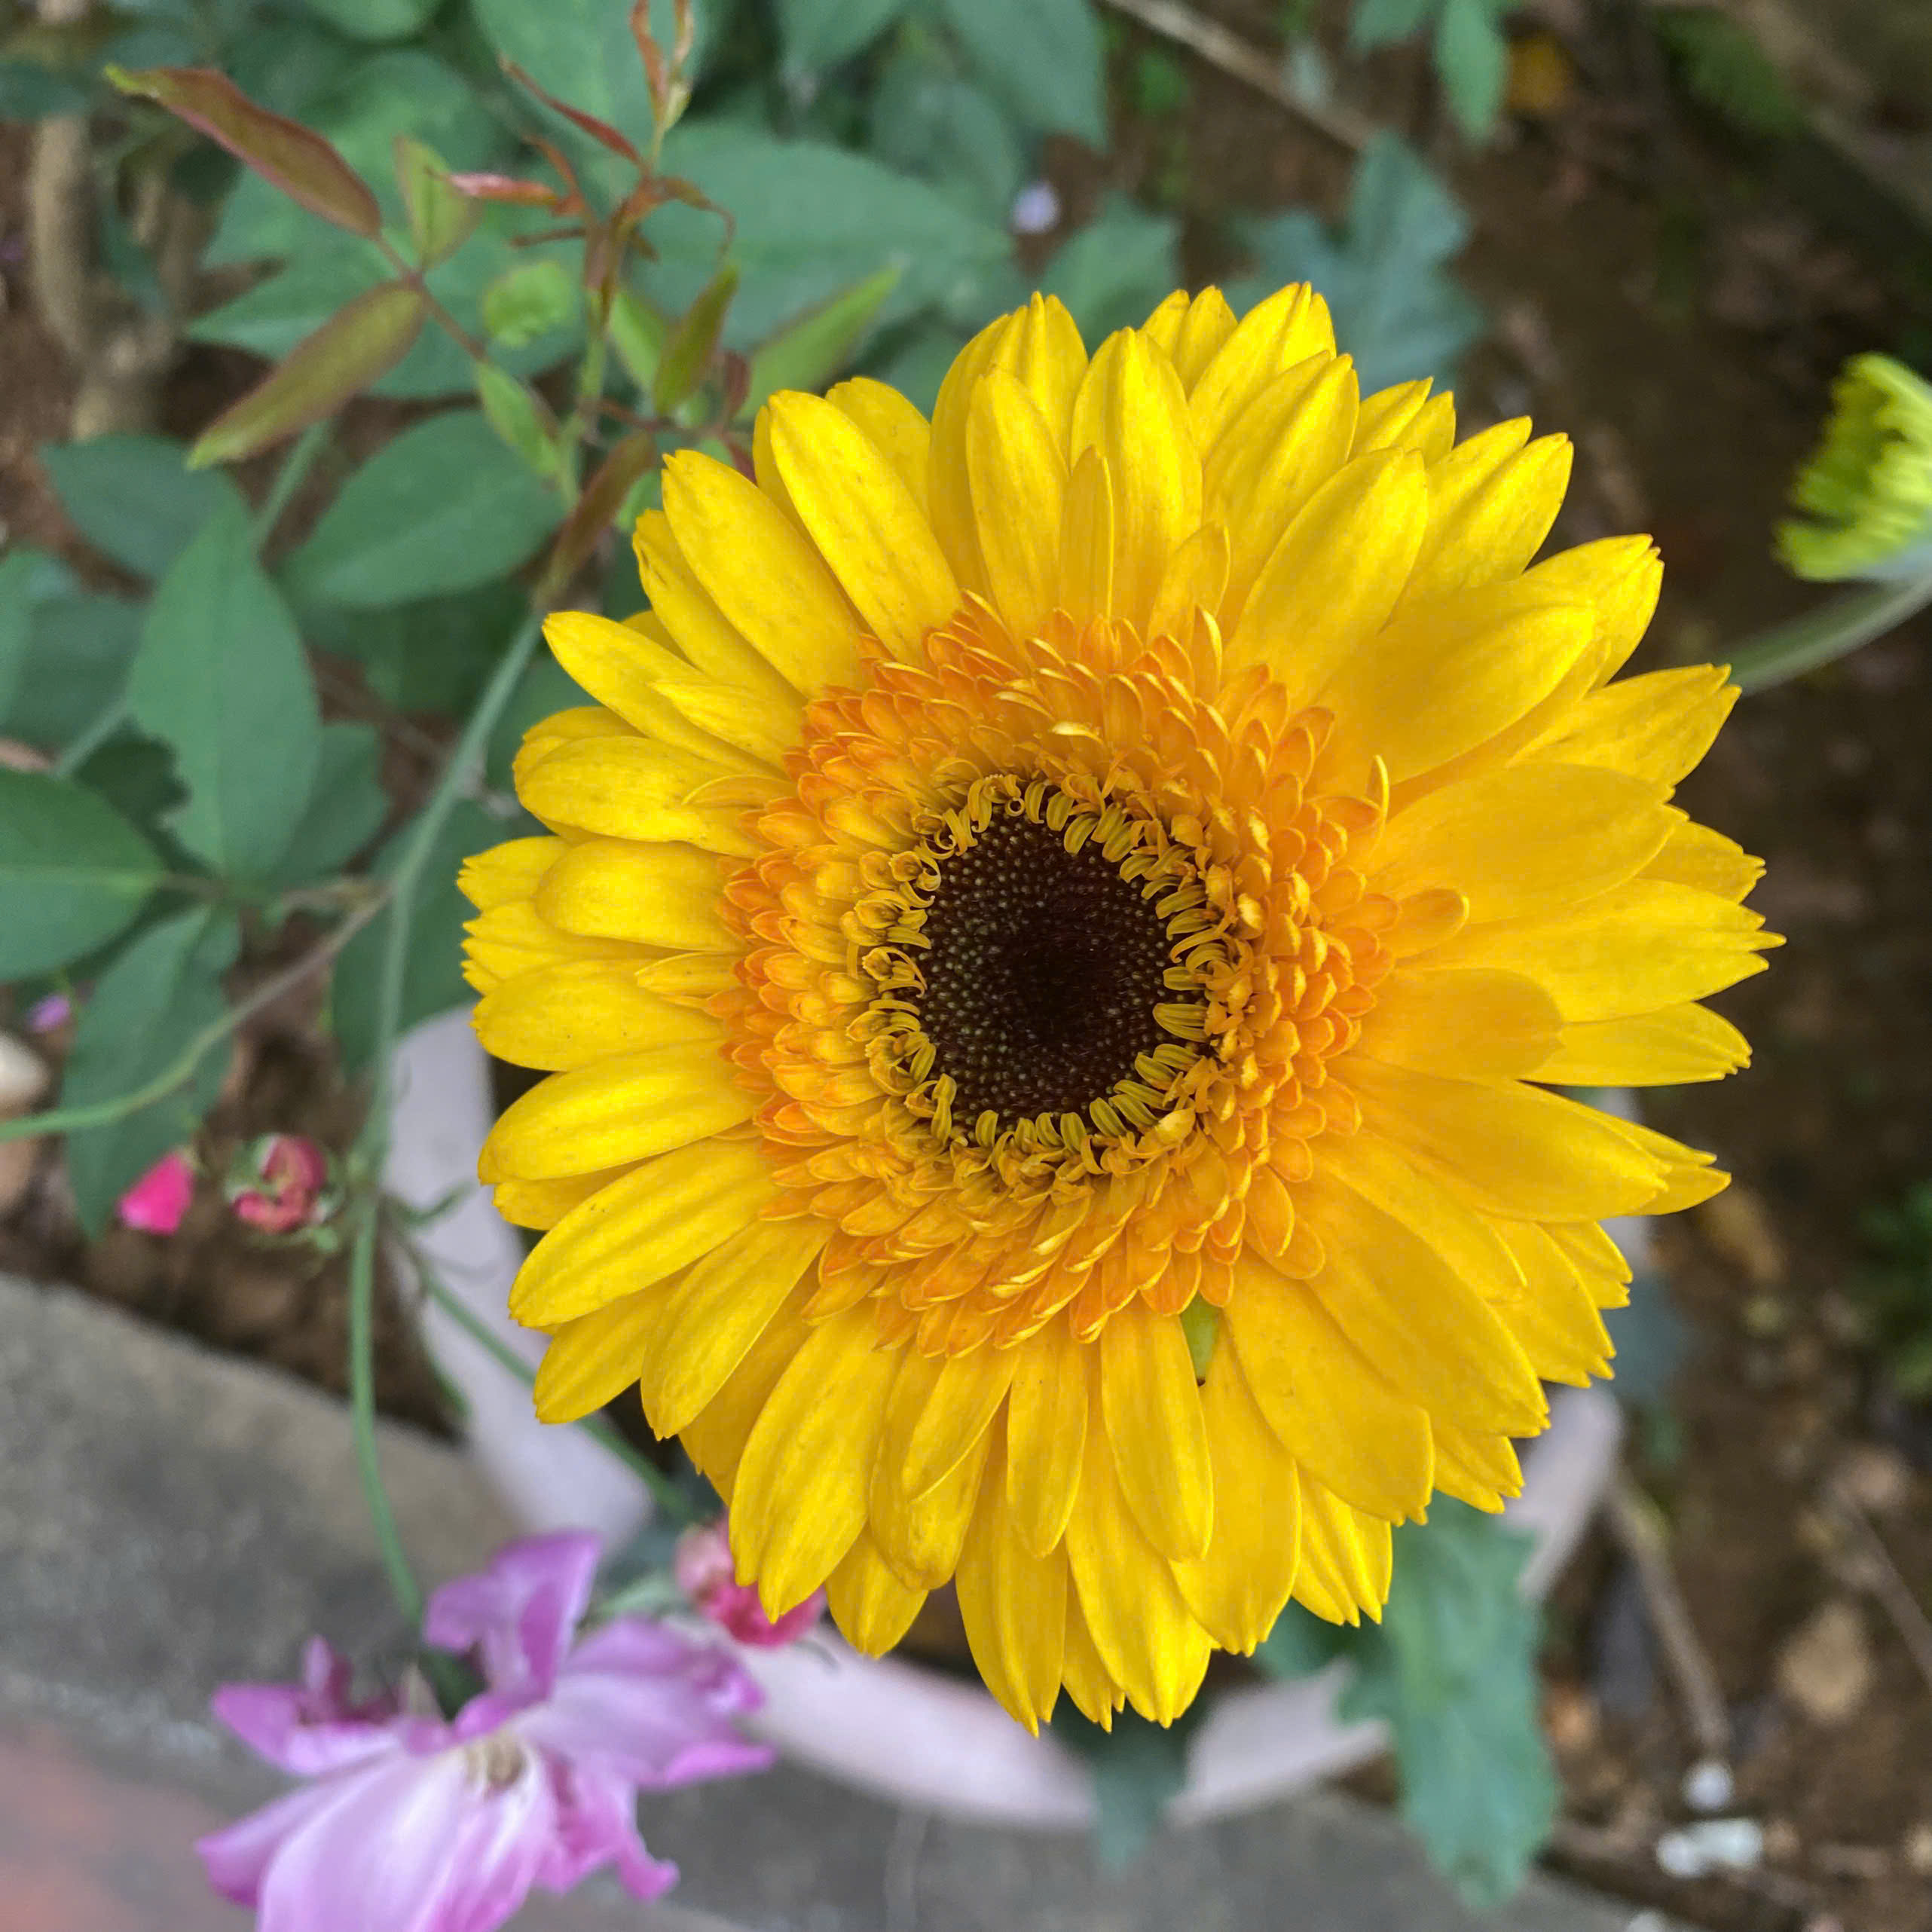hoa_huong_duong: (456, 280, 1783, 1803)
